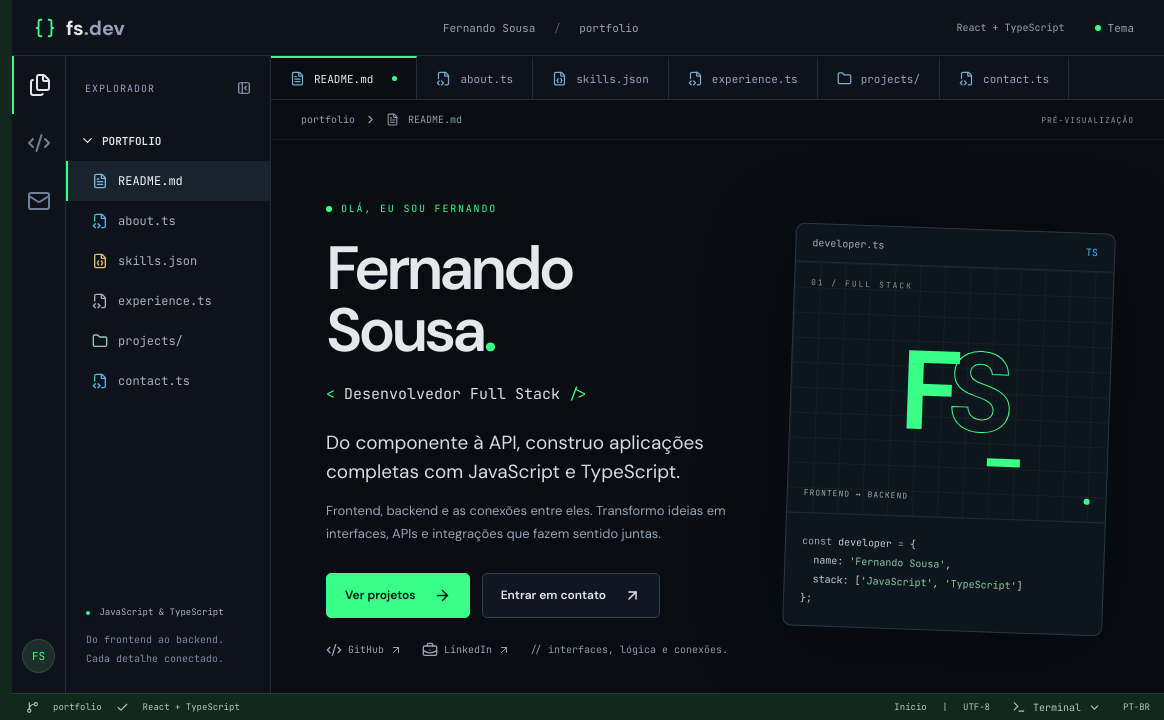
Test: experiência do visitante › copia e-mail configurado e informa falha de permissão
Click the button "Entrar em contato": (571,595) top-left (482, 573), bottom-right (660, 618)
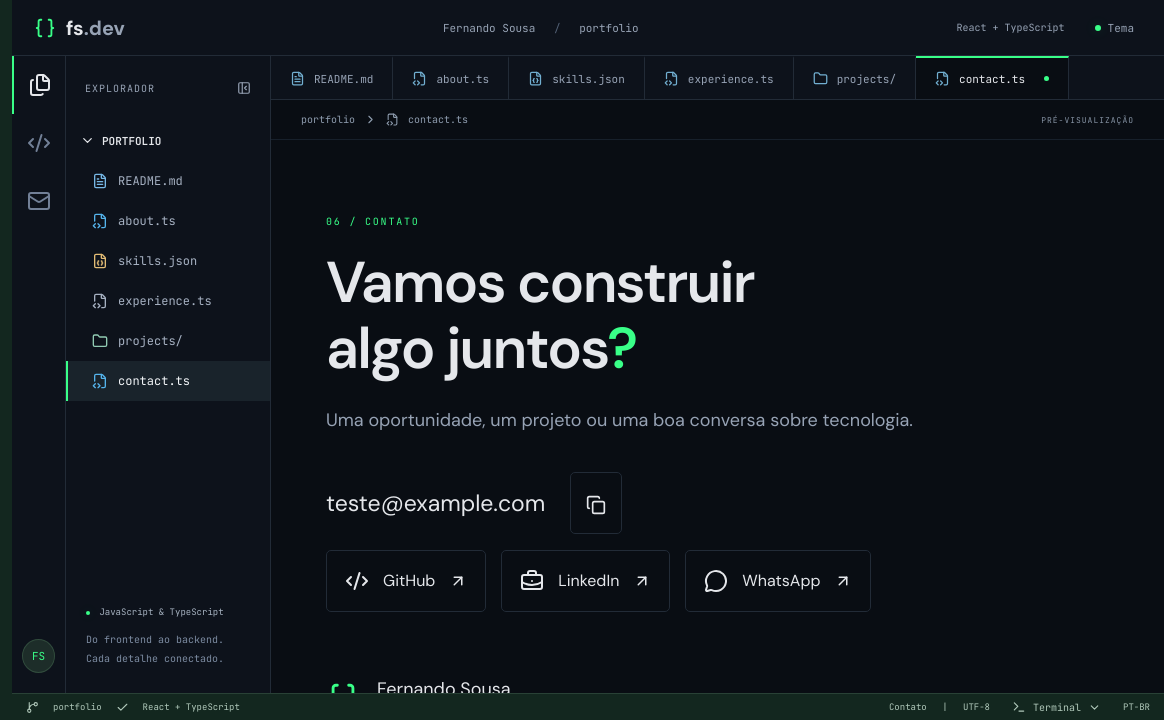
Click the button named "Copiar e-mail": (596,503) top-left (570, 472), bottom-right (622, 534)
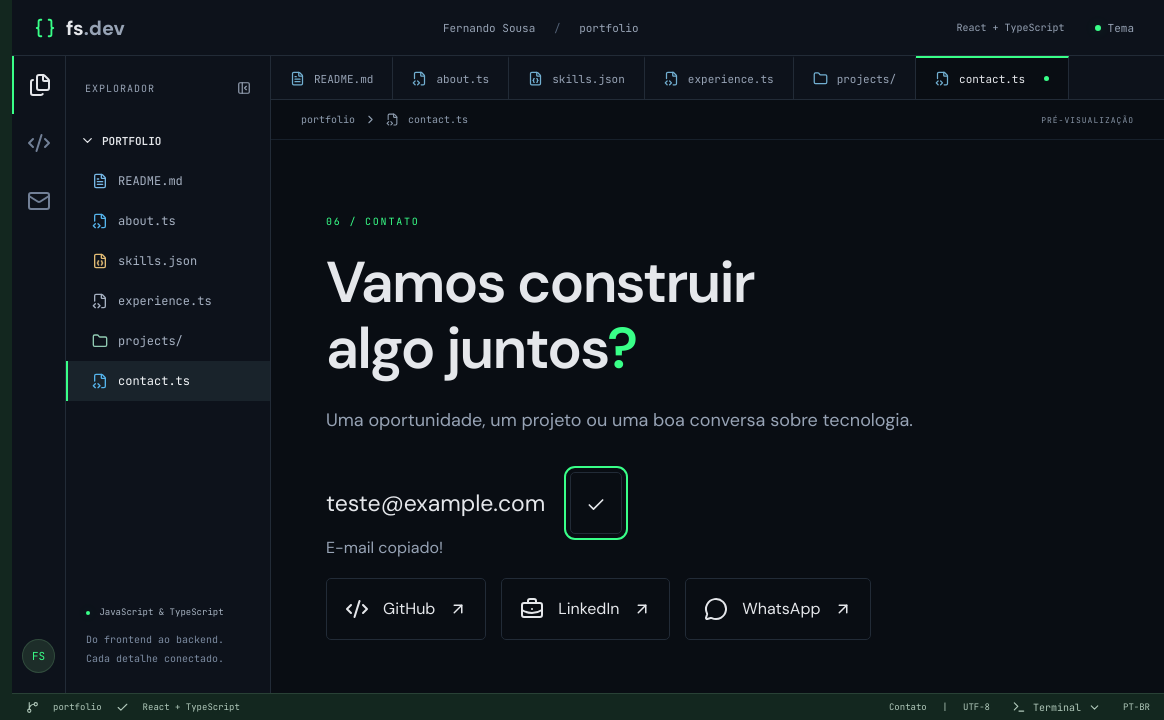
Check: the message reads "E-mail copiado!", box top-left (326, 537), bottom-right (443, 558)
Click the button named "Copiar e-mail": (596,503) top-left (570, 472), bottom-right (622, 534)
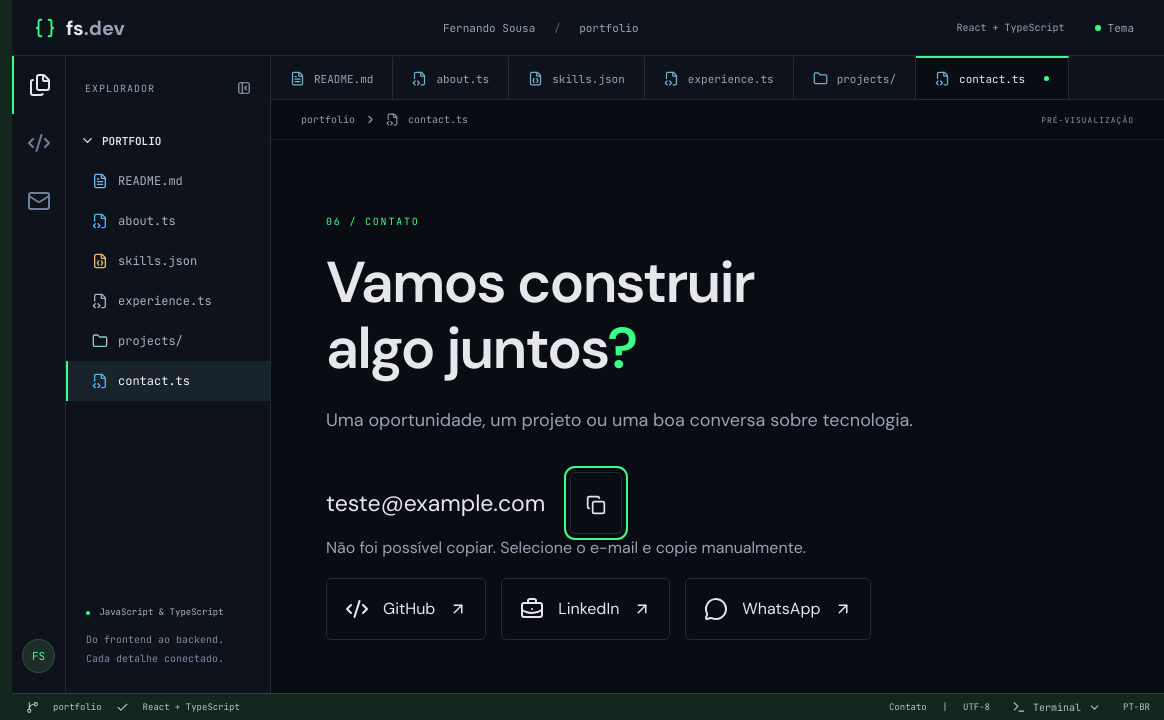
Check: the message shows "Não foi possível copiar", box top-left (326, 537), bottom-right (806, 558)
